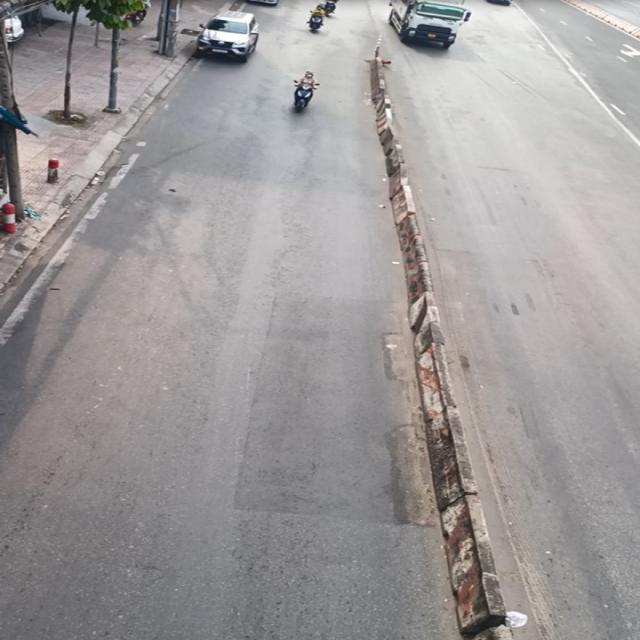car: (195, 9, 260, 62)
motorcycle: (292, 79, 318, 112)
truck: (387, 0, 471, 49)
